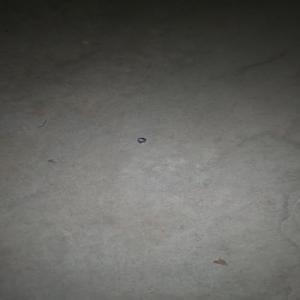Nut: (136, 137, 146, 143)
